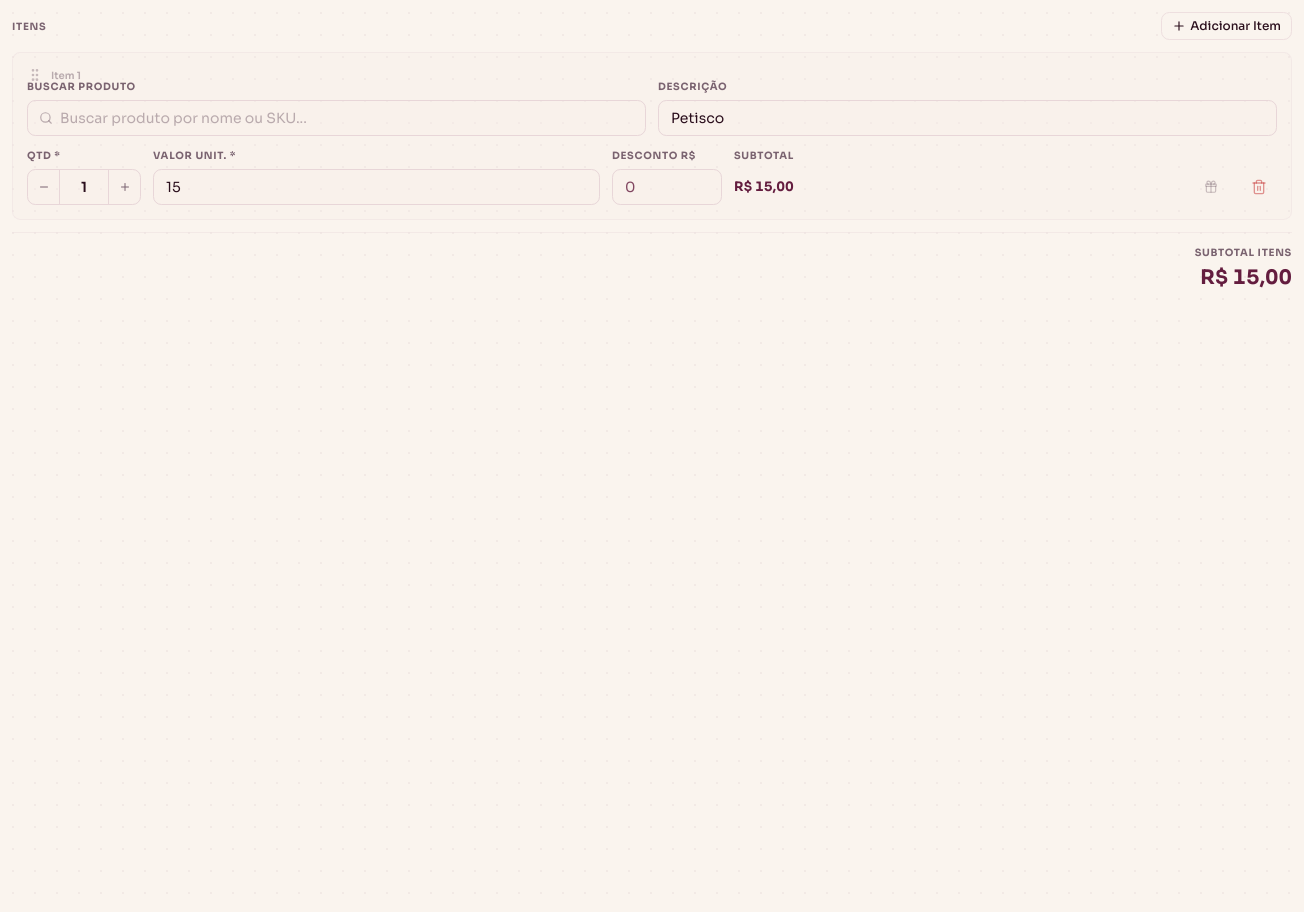
Test: ItensTable — brinde (specs/vendas/spec-v5.md) › marcar brinde zera e trava Valor Unit. e Desconto, e o subtotal mostra Brinde
The width and height of the screenshot is (1304, 912).
Type "5" into the number field below "Desconto R$" at (667,187), box [612, 169, 722, 205]
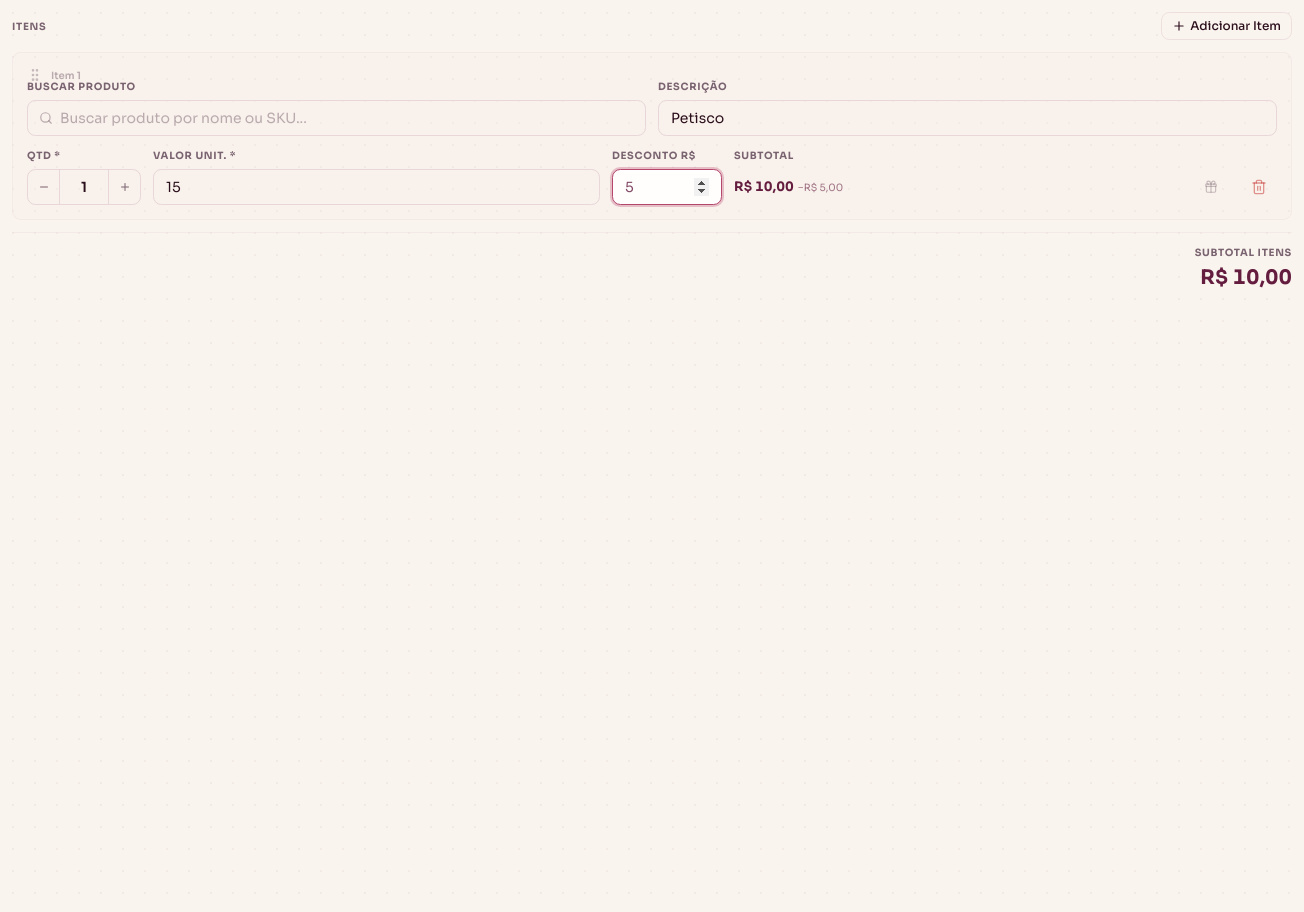
Click the button titled "brinde" at (1211,187), box [1193, 169, 1229, 205]
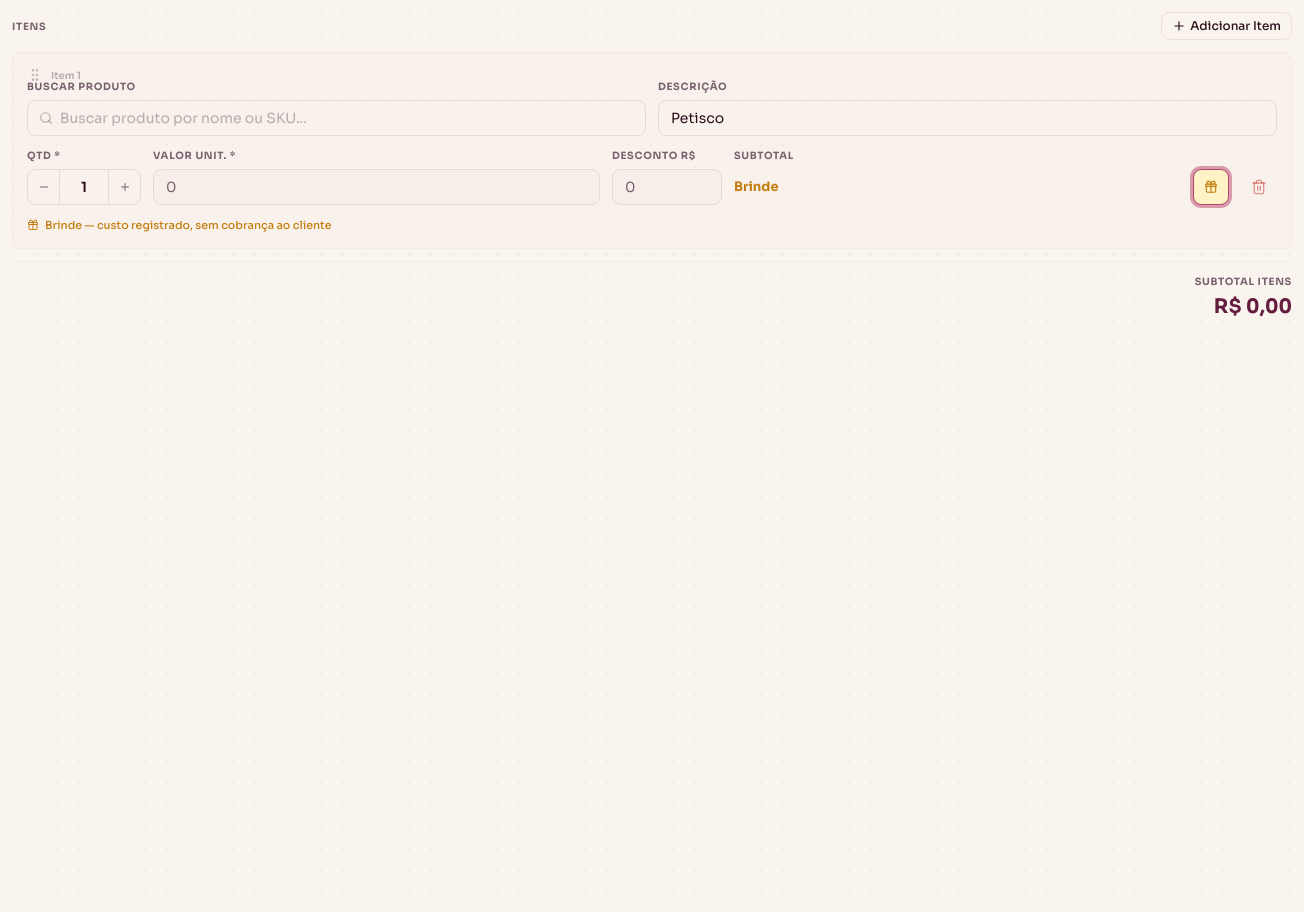
Check: the number field below "Valor Unit. *" holds "0", box [153, 169, 600, 205]
Check: the number field below "Desconto R$" holds "0", box [612, 169, 722, 205]
Check: the text "Brinde" is shown, box [734, 177, 778, 197]
